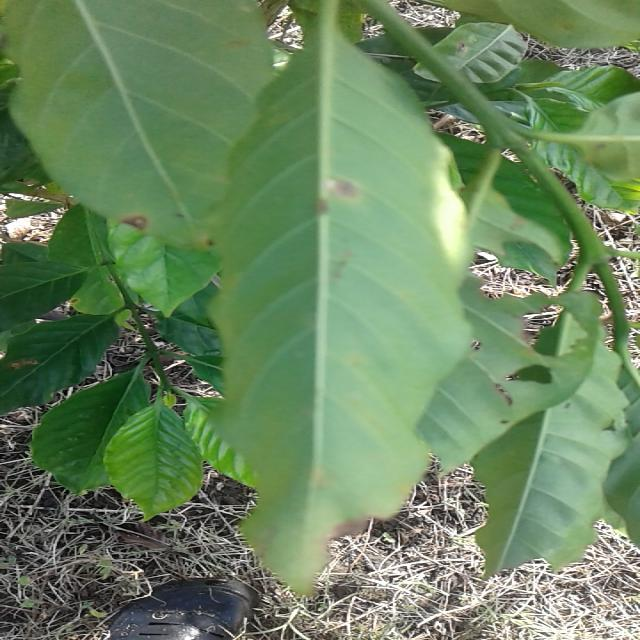Enfermedad-Roya: (208, 0, 474, 598)
